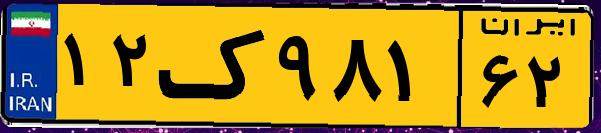1: (385, 28, 445, 110), (57, 26, 110, 100)
2: (525, 38, 570, 115), (110, 28, 158, 98)
6: (475, 38, 525, 113)
8: (330, 28, 385, 110)
9: (270, 28, 330, 110)
ک: (158, 12, 270, 120)
